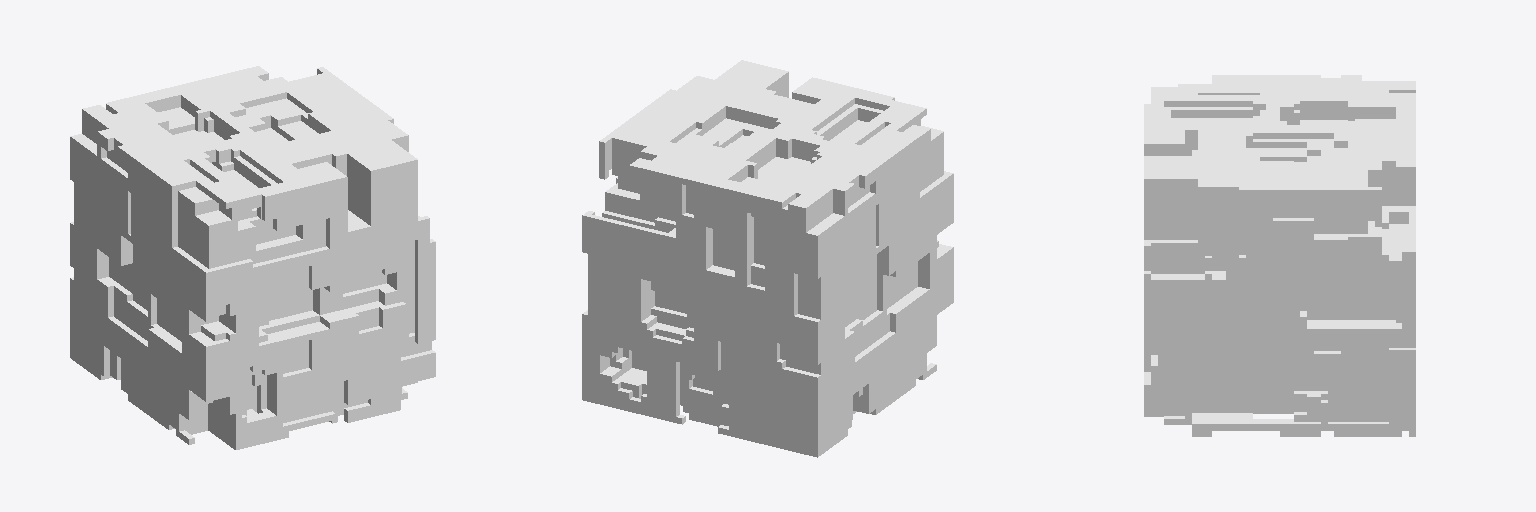
The picture shows the model from 3 angles: view 1: azimuth 30°, elevation 25°; view 2: azimuth 150°, elevation 25°; view 3: azimuth 270°, elevation 25°; orthographic projection.
Visible parts, largest first — view 1: 갉갉; view 2: 갉갉; view 3: 갉갉.
Boxes of the visible parts, x1,y1,x2,y2 form: 갉갉: [70, 66, 435, 449]; 갉갉: [582, 60, 953, 457]; 갉갉: [1144, 75, 1415, 436].
Bounding box in the file's own units: 40 × 40 × 40.